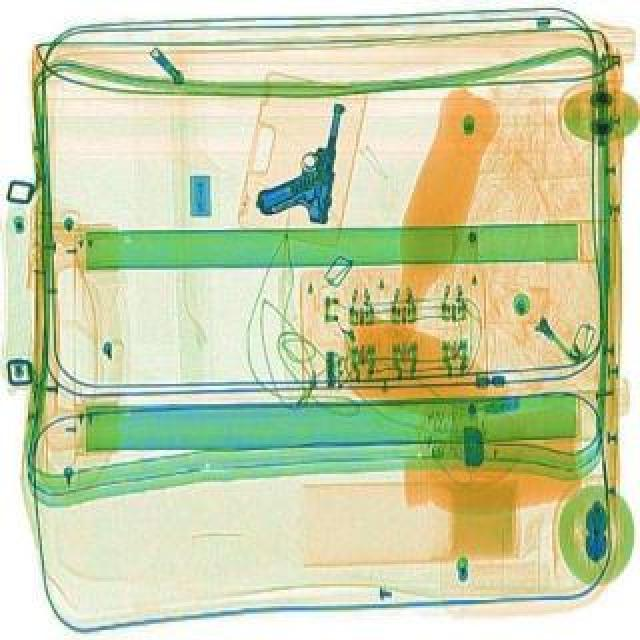gun: (256, 98, 348, 230)
